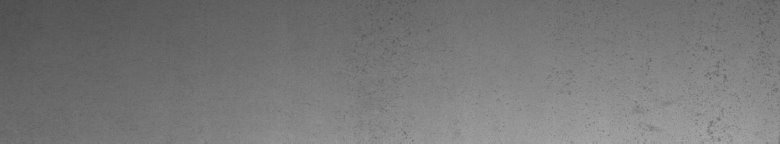ib: (635, 8, 763, 136)
